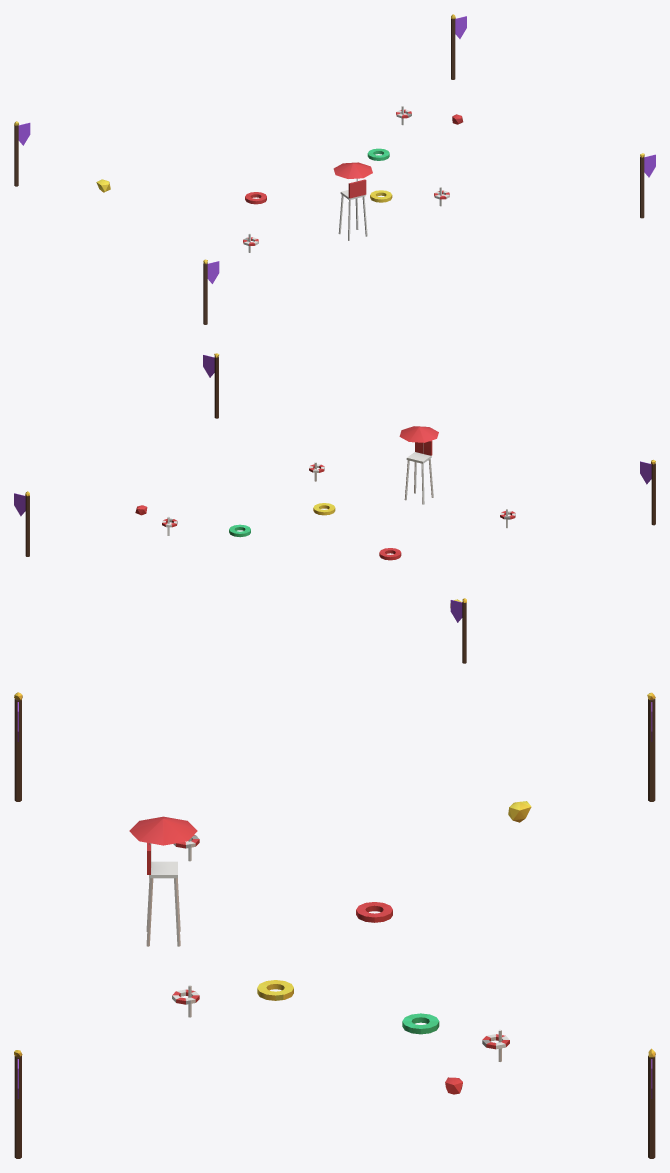
Rendered from area_pool_3_5.fbx.
3 views of the same model, one above another, from view 1: azimuth 30°, elevation 25°; view 2: azimuth 150°, elevation 25°; view 3: azimuth 270°, elevation 25° (orthographic). The views are drawn at different scales.
Visible parts, largest first — view 1: area_pool_3_5_body; view 2: area_pool_3_5_body; view 3: area_pool_3_5_body.
Part boxes in pixels (x1,y1,x2,y2): area_pool_3_5_body: [14, 14, 655, 324]; area_pool_3_5_body: [14, 353, 655, 663]; area_pool_3_5_body: [14, 692, 655, 1158].
Bounding box in the file's own units: 16591 × 2875 × 12162.
Materials: 1 (1 with a texture image).
